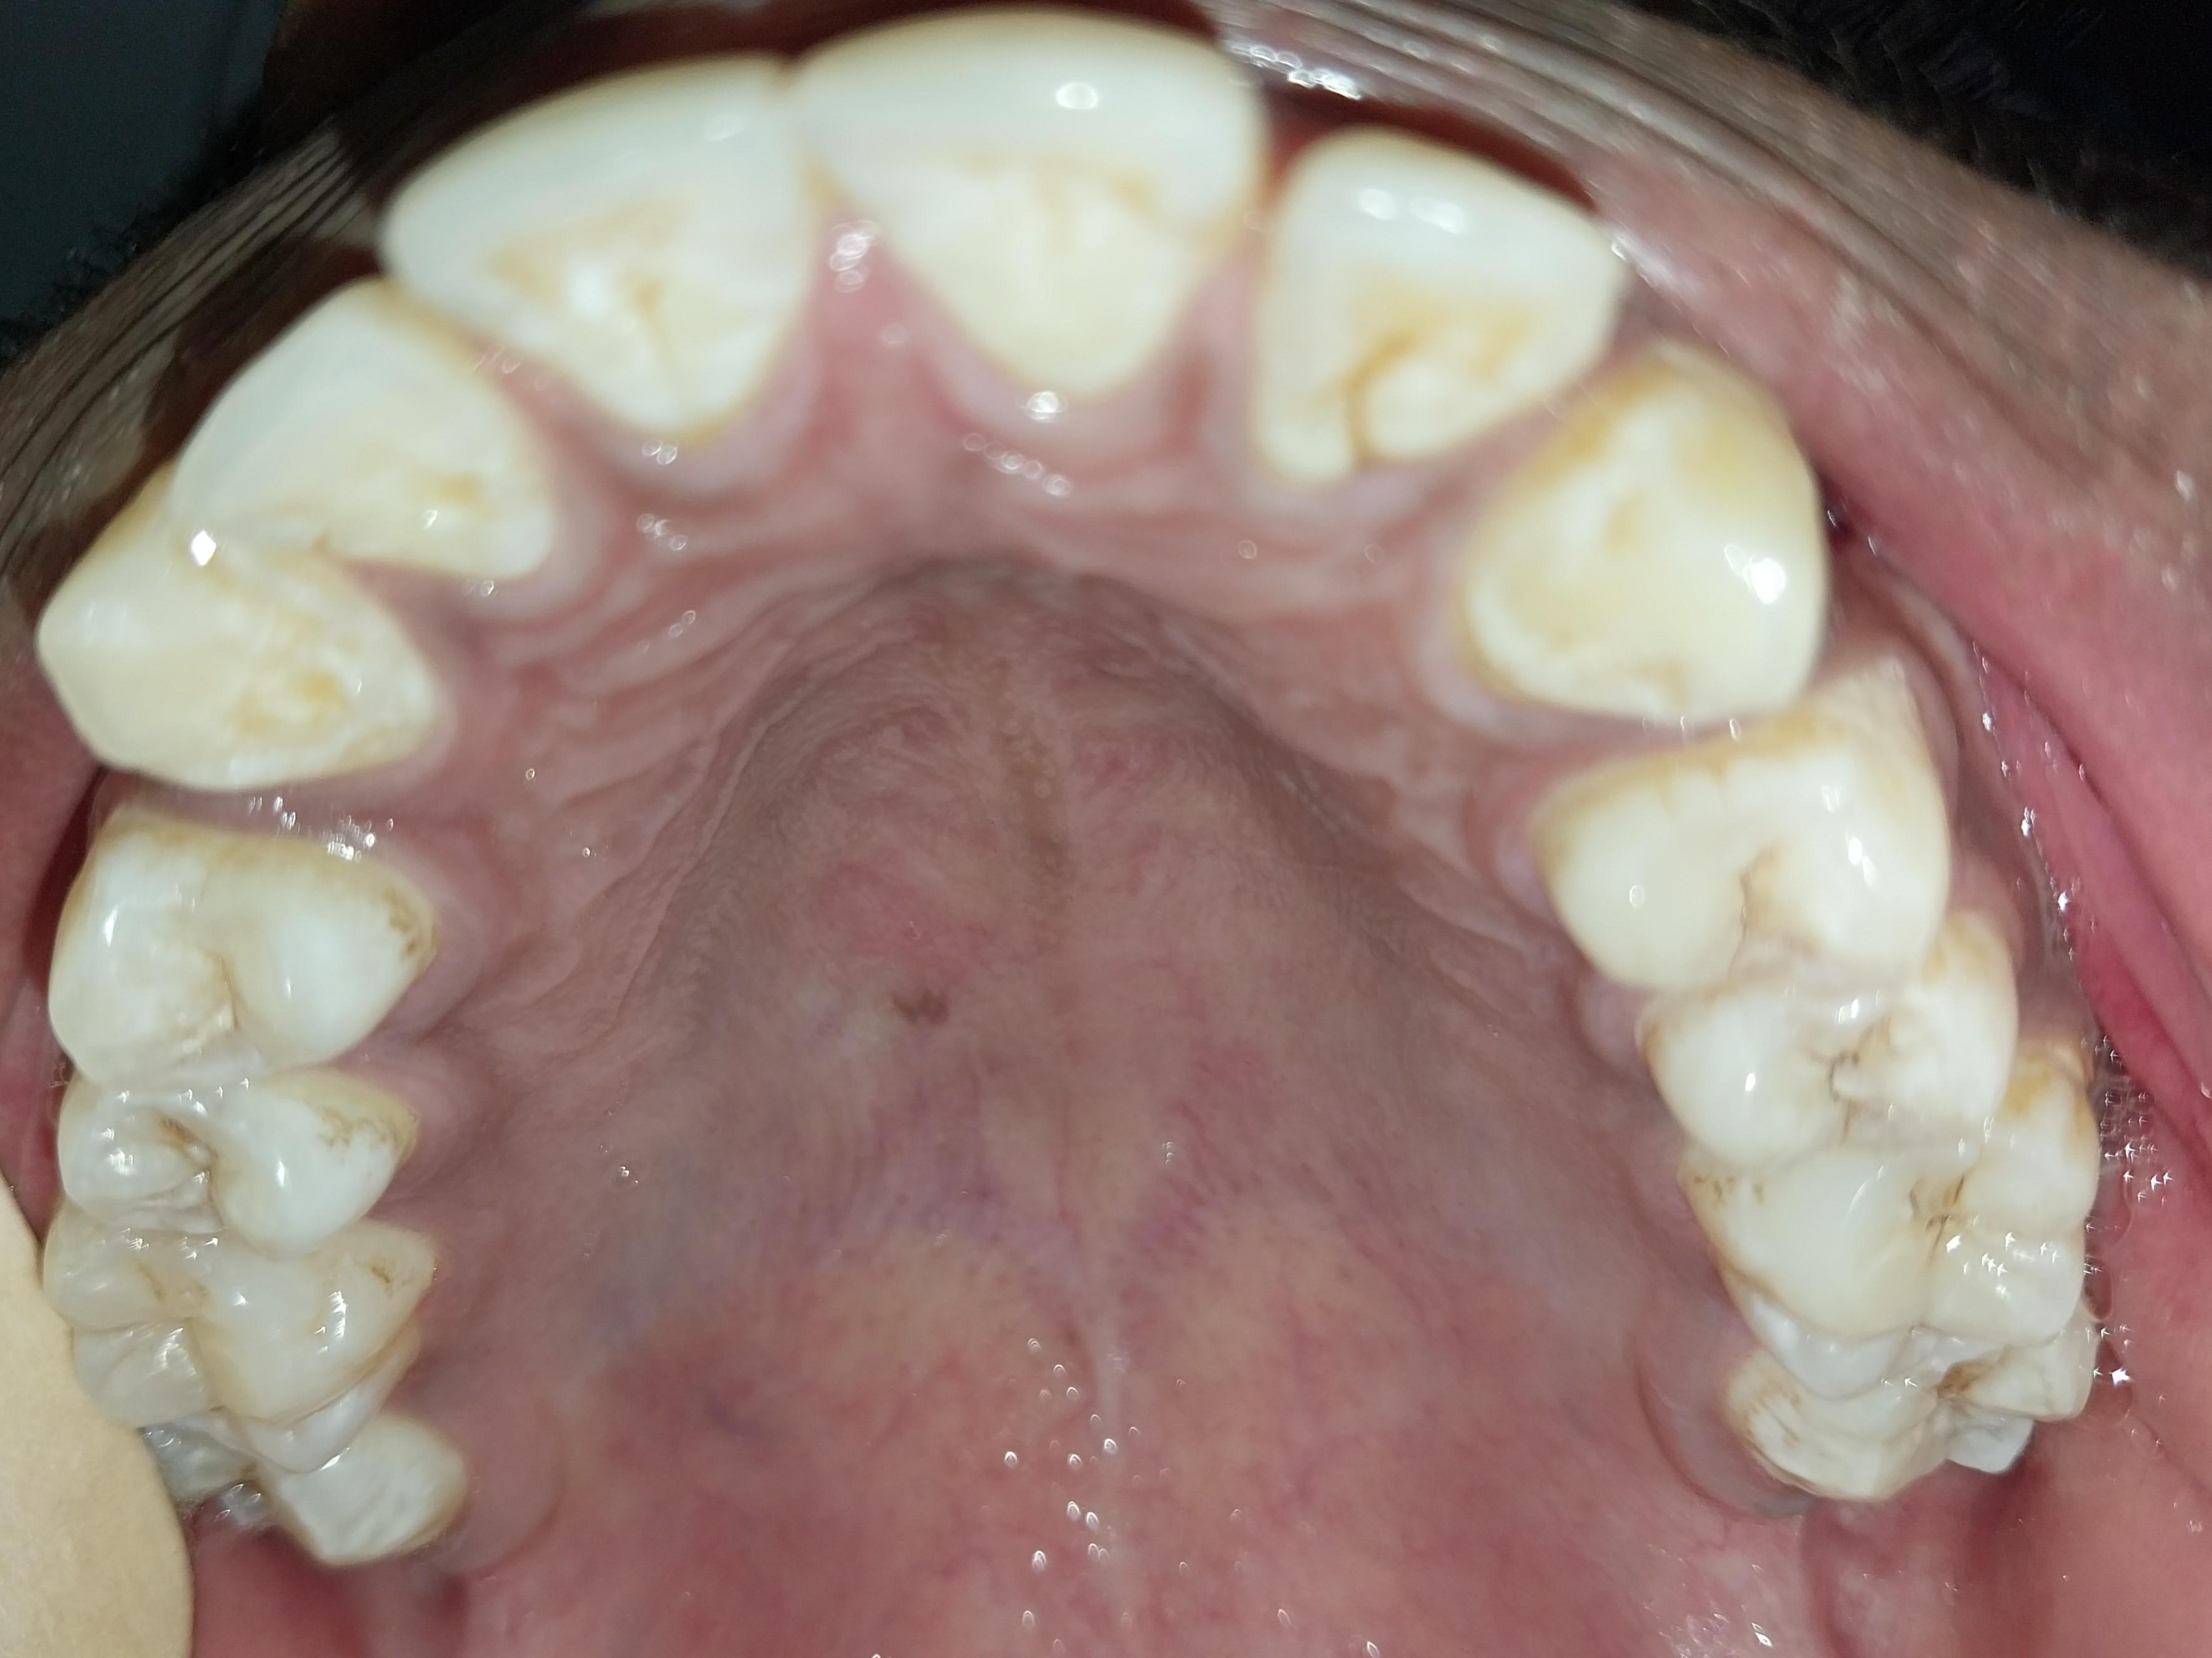D: (1671, 1045, 2098, 1371), (1639, 906, 2030, 1168), (1724, 1309, 2106, 1498), (52, 1069, 415, 1257)
